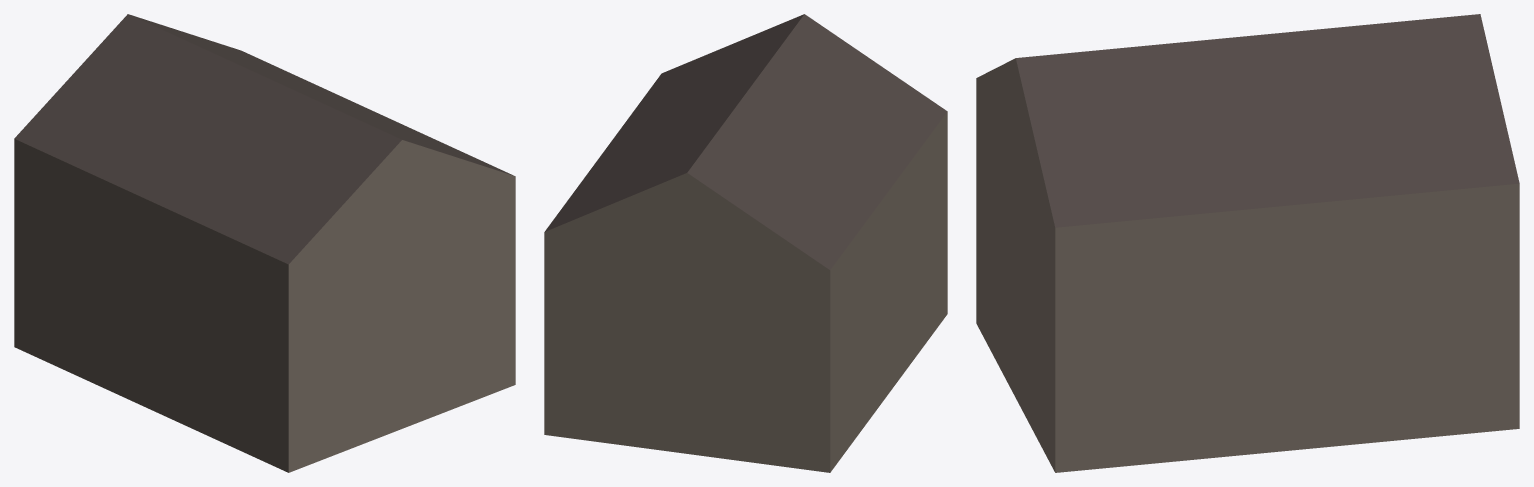
3 renders of one model, left to right at view 1: azimuth 30°, elevation 25°; view 2: azimuth 150°, elevation 25°; view 3: azimuth 270°, elevation 25°, orthographic. The views are drawn at different scales.
Parts seen in each view (by area): view 1: HP-w1376988817; view 2: HP-w1376988817; view 3: HP-w1376988817.
Boxes of the visible parts, x1,y1,x2,y2 form: HP-w1376988817: (14, 14, 515, 472); HP-w1376988817: (544, 14, 947, 472); HP-w1376988817: (976, 14, 1519, 472).
Bounding box in the file's own units: 10.17 × 8.32 × 12.05.
